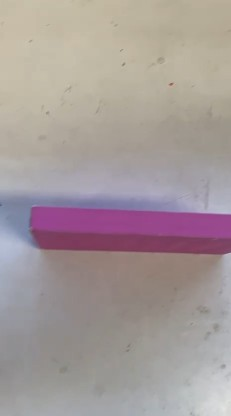pink: (18, 208, 231, 256)
